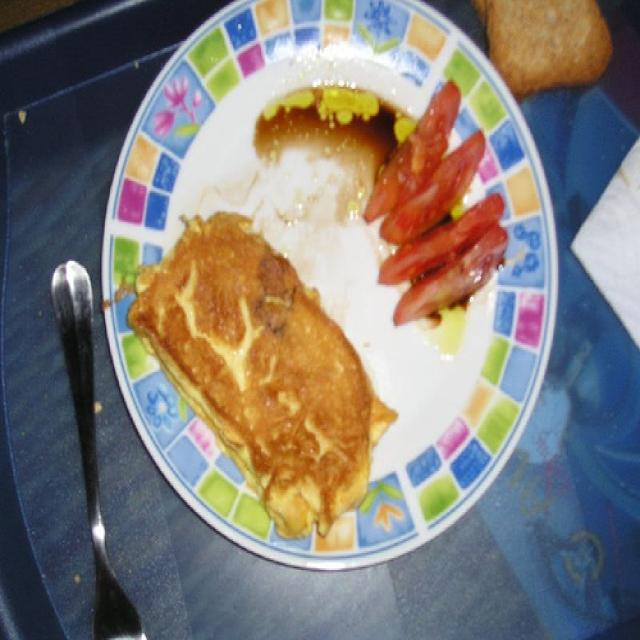鸡蛋料理: (125, 213, 372, 532)
